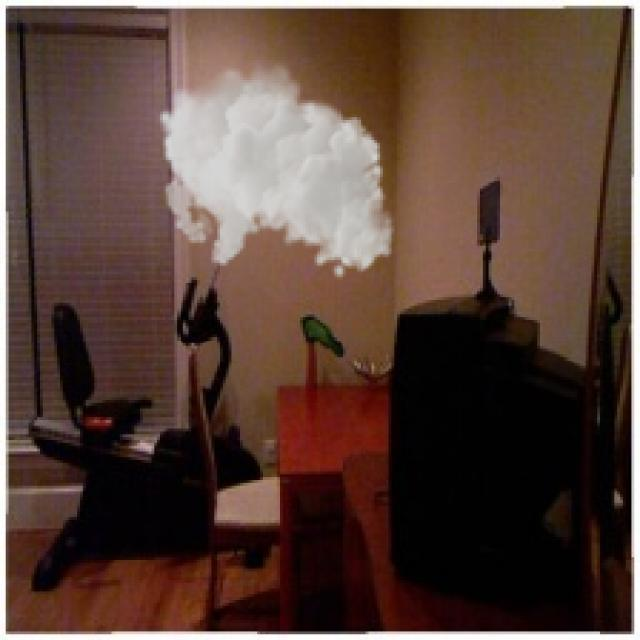Smoke: (157, 57, 394, 280)
